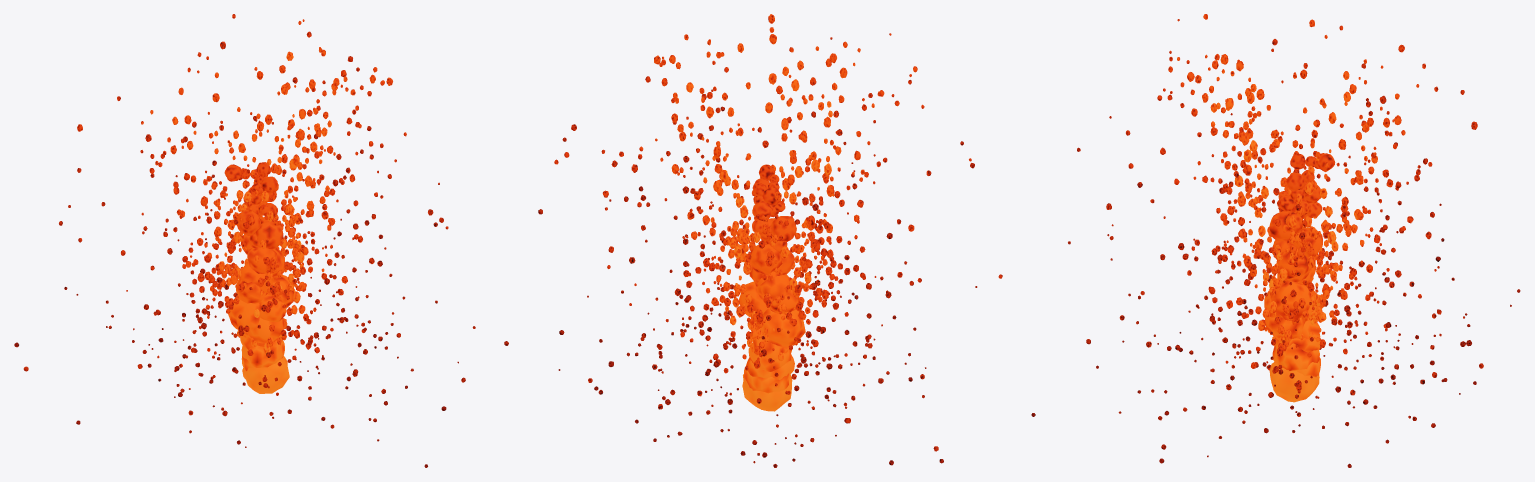
The model's file is lava_fountain_a.glb.
3 views of the same model, side by side, from view 1: azimuth 30°, elevation 25°; view 2: azimuth 150°, elevation 25°; view 3: azimuth 270°, elevation 25° (orthographic). The views are drawn at different scales.
Bounding box in the file's own units: 87.35 × 73.75 × 90.11.
